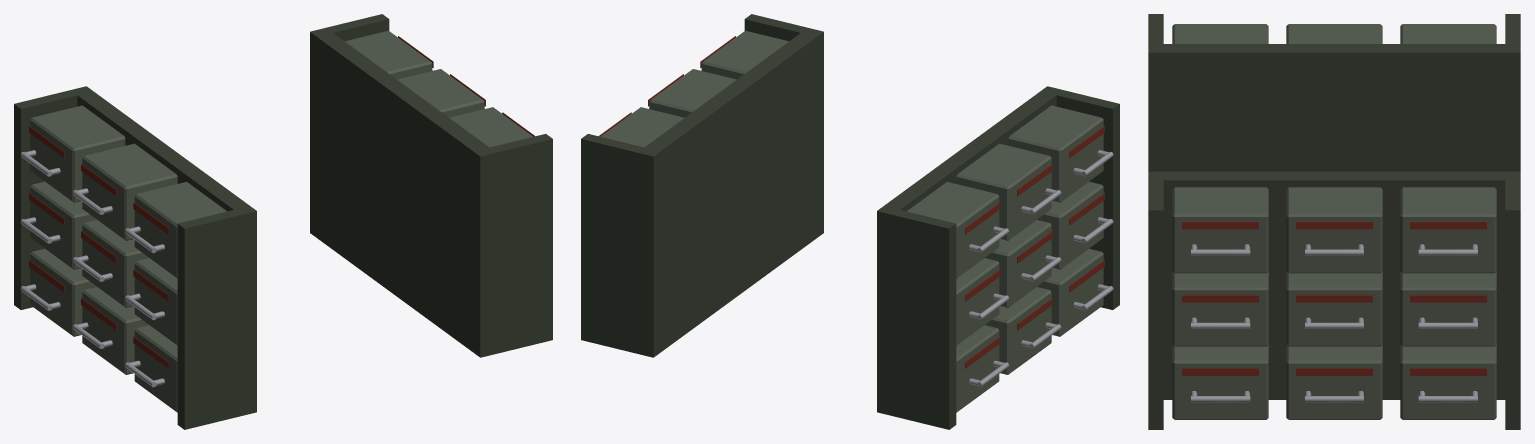
Rendered from s600_cells.obj.
3 renders of one model, left to right at view 1: azimuth 30°, elevation 25°; view 2: azimuth 150°, elevation 25°; view 3: azimuth 270°, elevation 25°, orthographic. The views are drawn at different scales.
Parts seen in each view (by area): view 1: s600_cells; view 2: s600_cells; view 3: s600_cells.
Boxes of the visible parts, bbox=[...] form: s600_cells: bbox=[14, 14, 552, 429]; s600_cells: bbox=[581, 14, 1119, 429]; s600_cells: bbox=[1148, 14, 1520, 429].
Bounding box in the file's own units: 2.67 × 1.3 × 2.
